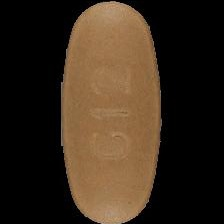17856-0668: (0, 0, 224, 224)
